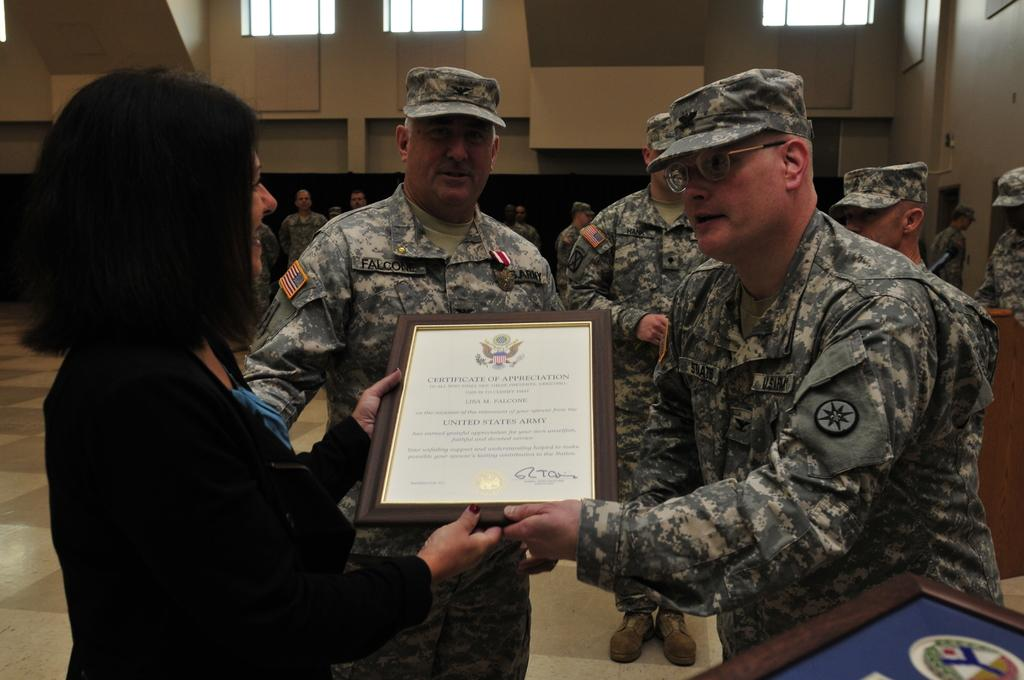Hat: (644, 70, 817, 174), (397, 59, 510, 136), (830, 164, 927, 219), (988, 164, 1022, 208), (642, 116, 674, 150), (574, 202, 596, 217)
